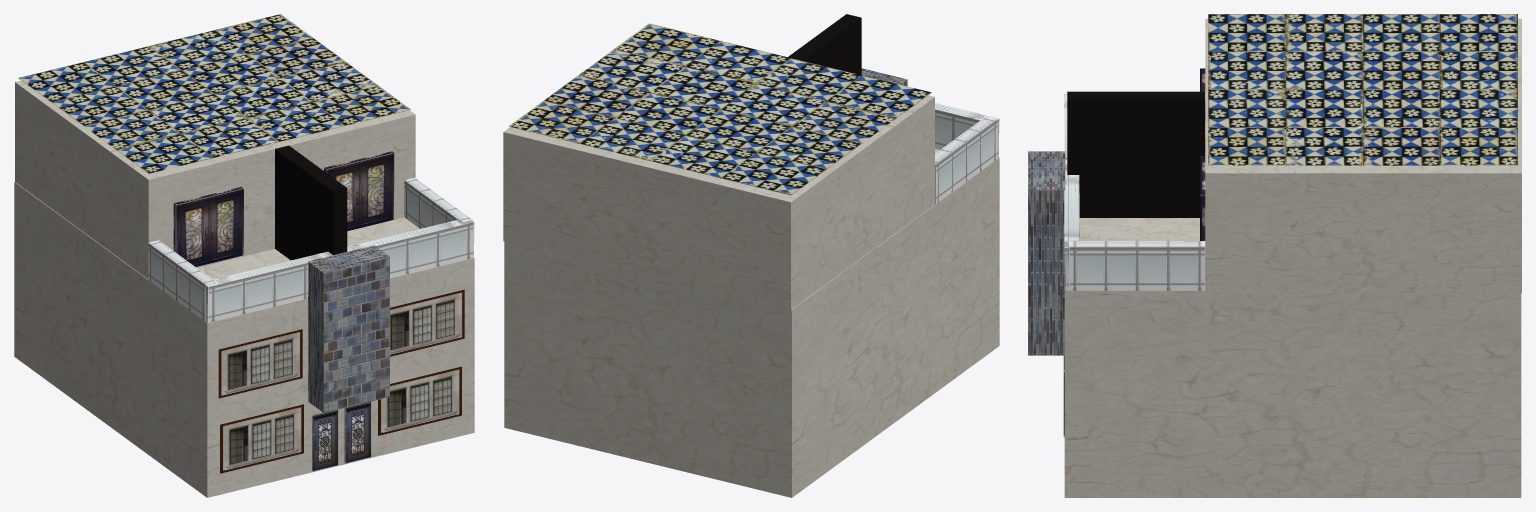
The model's file is Modelo_Casa.obj.
The picture shows the model from 3 angles, left to right: view 1: azimuth 30°, elevation 25°; view 2: azimuth 150°, elevation 25°; view 3: azimuth 270°, elevation 25°; orthographic projection. The views are drawn at different scales.
Visible parts, largest first — view 1: House, Plane001, House01, Deco, Separacion, Door03, TerrazaFron001, Window02, Window03, Window04, TerrazaFron, Window01 (+5 smaller); view 2: House, House01, Plane001, TerrazaIzq, Separacion, TerrazaFron001; view 3: House, Plane001, House01, Separacion, Deco, TerrazaDer, TerrazaFron.
Boxes of the visible parts, x1,y1,x2,y2 form: House: [14, 182, 474, 497]; Plane001: [18, 14, 410, 173]; House01: [15, 80, 415, 278]; Deco: [308, 245, 389, 412]; Separacion: [275, 145, 347, 260]; Door03: [173, 186, 243, 266]; TerrazaFron001: [206, 251, 332, 322]; Window02: [218, 329, 302, 398]; Window03: [220, 404, 303, 473]; Window04: [378, 366, 461, 435]; TerrazaFron: [344, 220, 474, 278]; Window01: [390, 289, 464, 356]; House: [504, 148, 999, 497]; House01: [503, 95, 934, 311]; Plane001: [508, 23, 931, 195]; TerrazaIzq: [935, 116, 997, 204]; Separacion: [788, 14, 861, 75]; TerrazaFron001: [935, 103, 999, 158]; House: [1064, 218, 1521, 497]; Plane001: [1208, 14, 1517, 165]; House01: [1205, 18, 1521, 293]; Separacion: [1067, 91, 1204, 217]; Deco: [1028, 151, 1065, 355]; TerrazaDer: [1069, 241, 1205, 290]; TerrazaFron: [1064, 170, 1079, 290].
Size of the model in its own units: 80.17 by 79.91 by 108.
8 materials, 7 textured.
